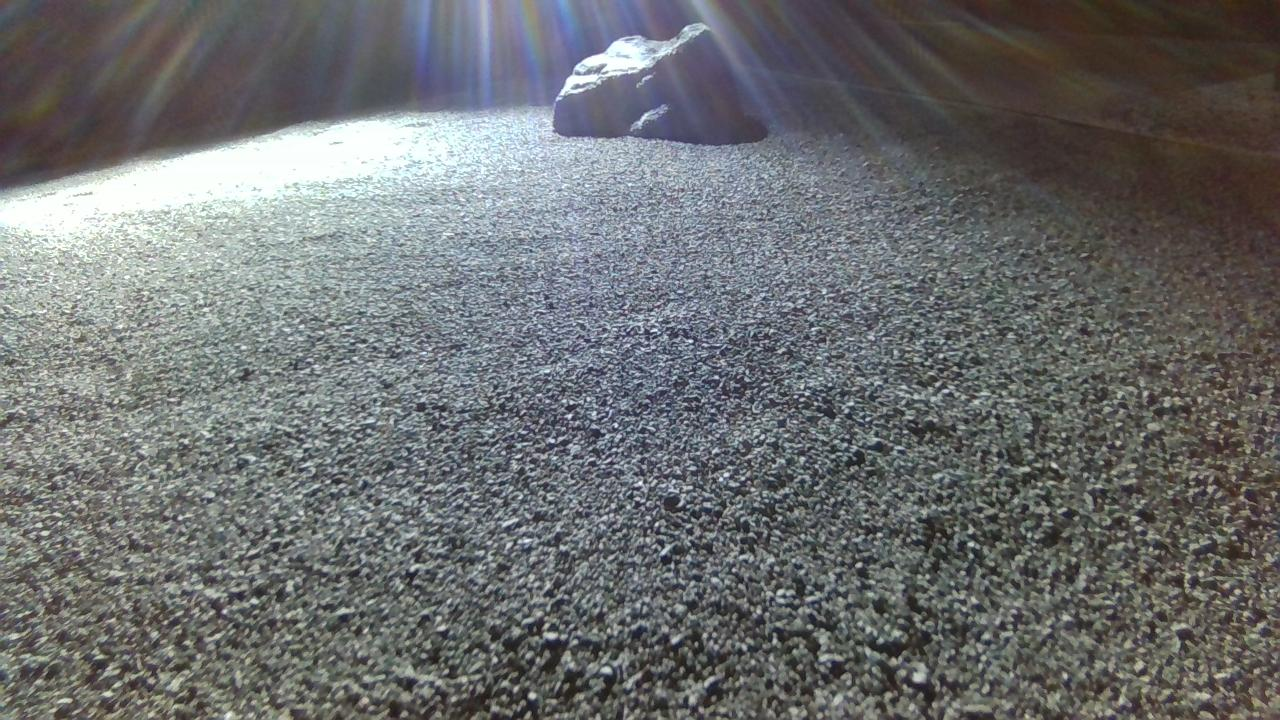rock: (554, 22, 749, 146)
